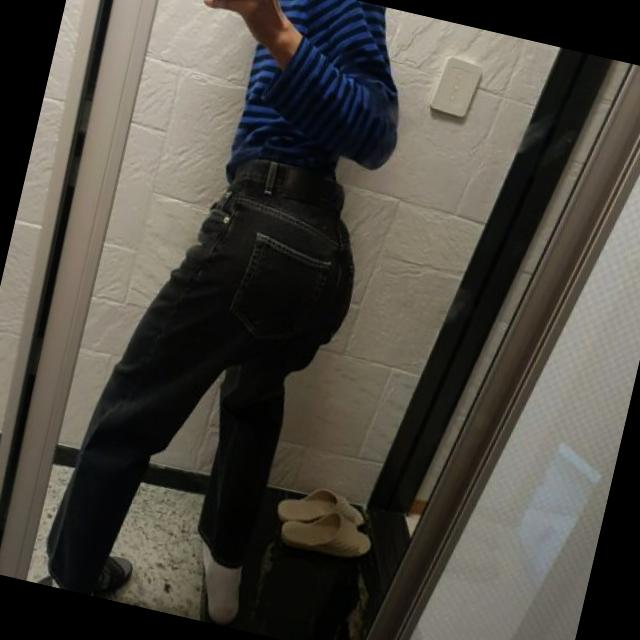denimpants: (37, 126, 376, 637)
longsleeve: (223, 0, 426, 216)
